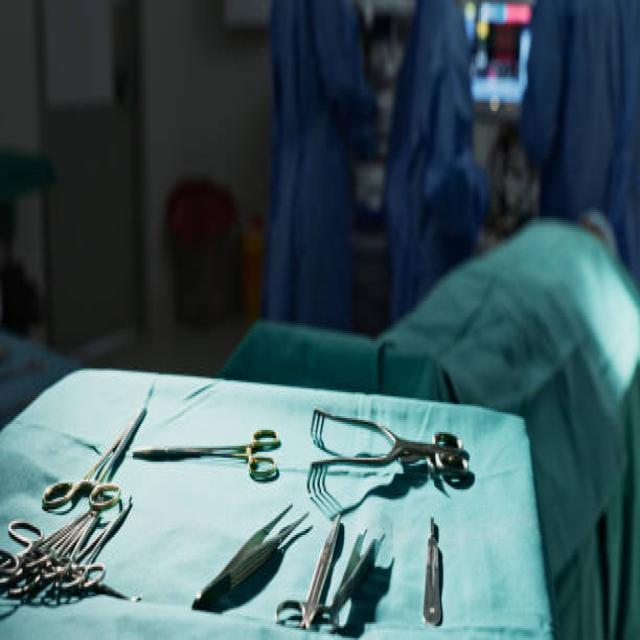tools_table: (0, 358, 552, 640)
